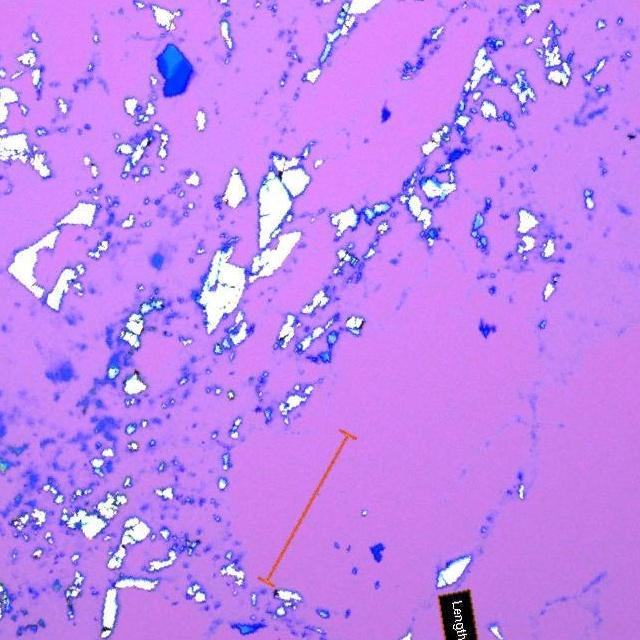monolayer-eWW4: (188, 71, 196, 89)
